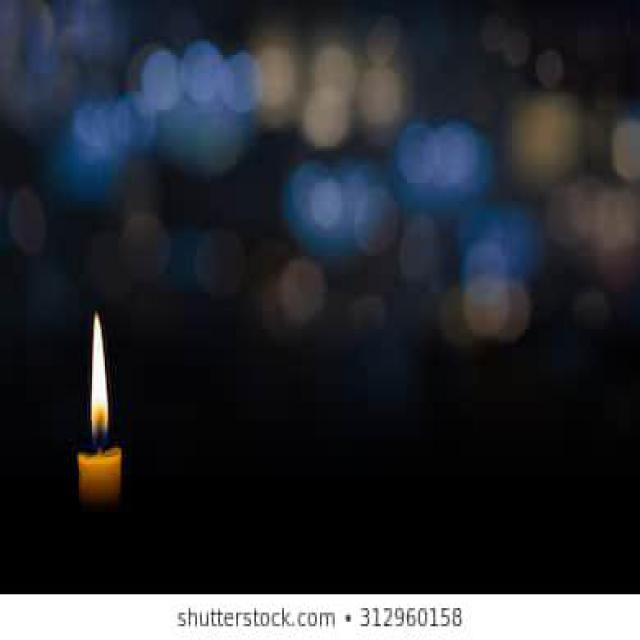Fire: (90, 314, 108, 438)
